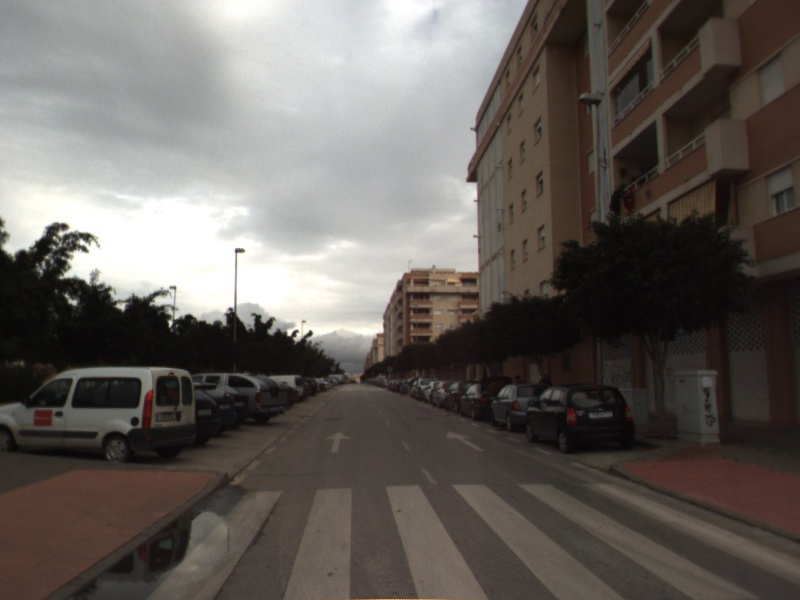STRAIGHT: (444, 429, 487, 453), (323, 429, 354, 454)
